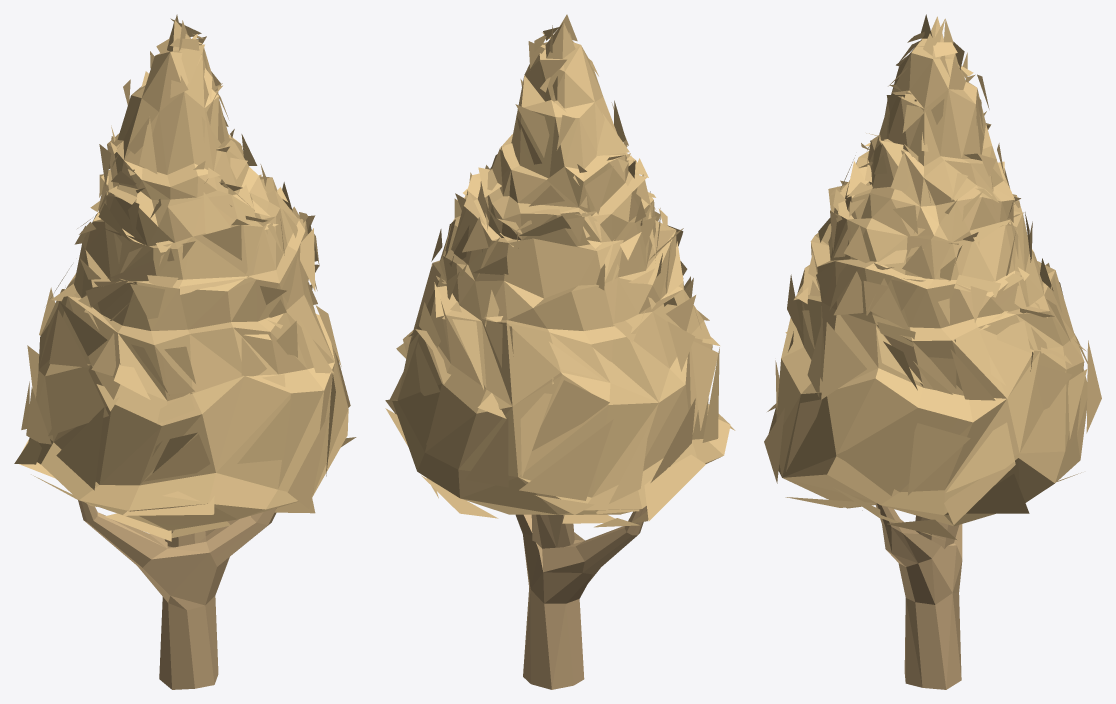
Rendered from DriedtulipB.fbx.
3 views of the same model, side by side, from view 1: azimuth 30°, elevation 25°; view 2: azimuth 150°, elevation 25°; view 3: azimuth 270°, elevation 25° (orthographic).
Visible parts, largest first — view 1: leaves.004, extraleaves, trunk.004; view 2: leaves.004, extraleaves, trunk.004; view 3: leaves.004, extraleaves, trunk.004.
Boxes of the visible parts, bbox=[...] form: leaves.004: bbox=[28, 20, 348, 530]; extraleaves: bbox=[14, 14, 356, 541]; trunk.004: bbox=[78, 90, 276, 689]; leaves.004: bbox=[392, 22, 730, 514]; extraleaves: bbox=[385, 14, 735, 527]; trunk.004: bbox=[515, 506, 647, 689]; leaves.004: bbox=[768, 16, 1087, 526]; extraleaves: bbox=[764, 14, 1101, 539]; trunk.004: bbox=[875, 99, 962, 689].
Bounding box in the file's own units: 374 × 816 × 378.
